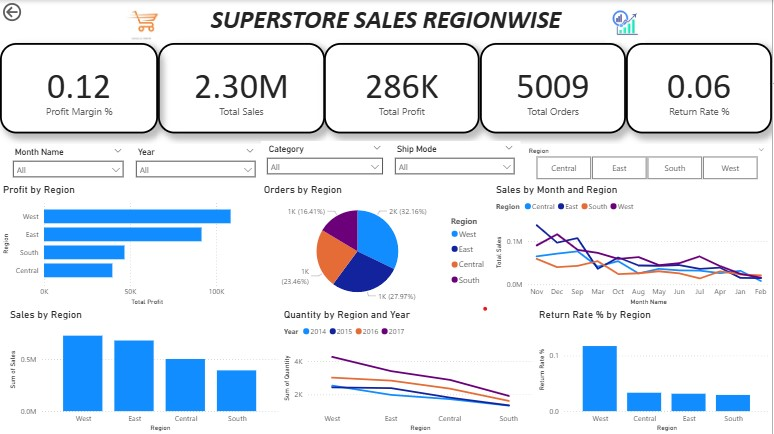

Layout of this report page (visuals, bound fields, positions):
{"tool":"powerbi","page":{"name":"REGIONWISE","canvas":[1280,720],"ordinal":1},"visuals":[{"type":"textbox","box":[0,0,1280,72],"z":0},{"type":"card","fields":{"Values":["Orders.Total Sales"]},"box":[261.7,71.7,276.7,150],"z":1000},{"type":"actionButton","box":[0,0,100,40],"z":2000},{"type":"card","fields":{"Values":["Orders.Total Profit"]},"box":[538,72,258,150],"z":3000},{"type":"card","fields":{"Values":["Orders.Profit Margin %"]},"box":[0,72,262,150],"z":4000},{"type":"card","fields":{"Values":["Orders.Total Orders"]},"box":[796,72,242,150],"z":5000},{"type":"card","fields":{"Values":["Returns.Return Rate %"]},"box":[1038,72,242,150],"z":6000},{"type":"columnChart","title":"Sales by Region","fields":{"Y":["Sum(Orders.Sales)"],"Category":["People.Region"]},"box":[11.7,510,455,210],"z":7000},{"type":"lineChart","title":" Quantity by Region and Year","fields":{"Category":["People.Region"],"Series":["Date.Year"],"Y":["Sum(Orders.Quantity)"]},"box":[466.7,510,421.7,210],"z":8000},{"type":"columnChart","fields":{"Category":["People.Region"],"Y":["Returns.Return Rate %"]},"box":[888.3,510,391.7,210],"z":9000},{"type":"barChart","title":"Profit by Region","fields":{"Y":["Orders.Total Profit"],"Category":["People.Region"]},"box":[0,303.4,434.4,207.3],"z":10000},{"type":"pieChart","title":"Orders by Region","fields":{"Y":["Orders.Total Orders"],"Category":["People.Region"]},"box":[432.7,303.4,384.7,207.3],"z":11000},{"type":"slicer","fields":{"Values":["Date.Year"]},"box":[215,238.3,218.3,61.7],"z":12000},{"type":"slicer","fields":{"Values":["Orders.Category"]},"box":[433.3,233.3,211.7,65],"z":13000},{"type":"slicer","fields":{"Values":["People.Region"]},"box":[863.8,238.8,416.2,64.7],"z":14000},{"type":"slicer","fields":{"Values":["Date.Month Name"]},"box":[11.7,238.3,203.3,60],"z":15000},{"type":"slicer","fields":{"Values":["Orders.Ship Mode"]},"box":[645,233.3,218.3,61.7],"z":16000},{"type":"lineChart","title":"Sales by Month and Region","fields":{"Category":["Date.Month Name"],"Y":["Orders.Total Sales"],"Series":["Orders.Region"]},"box":[817.4,303.4,462.6,207.3],"z":16002},{"type":"image","box":[184,1.7,107.8,71.3],"z":16003},{"type":"image","box":[988.2,0,97.8,74.6],"z":16005}]}

Visuals, with their boxes in screenshot pixels (x1, y1, x2, y2), scaled from the page's 1280x720 canvas onto the 774x434 screenshot:
textbox: (left=0, top=0, right=773, bottom=43)
card - Orders.Total Sales: (left=158, top=43, right=326, bottom=134)
actionButton: (left=0, top=0, right=60, bottom=24)
card - Orders.Total Profit: (left=325, top=43, right=481, bottom=134)
card - Orders.Profit Margin %: (left=0, top=43, right=158, bottom=134)
card - Orders.Total Orders: (left=481, top=43, right=628, bottom=134)
card - Returns.Return Rate %: (left=628, top=43, right=773, bottom=134)
"Sales by Region" columnChart: (left=7, top=307, right=282, bottom=433)
" Quantity by Region and Year" lineChart: (left=282, top=307, right=537, bottom=433)
columnChart - People.Region x Returns.Return Rate %: (left=537, top=307, right=773, bottom=433)
"Profit by Region" barChart: (left=0, top=183, right=263, bottom=308)
"Orders by Region" pieChart: (left=262, top=183, right=494, bottom=308)
slicer - Date.Year: (left=130, top=144, right=262, bottom=181)
slicer - Orders.Category: (left=262, top=141, right=390, bottom=180)
slicer - People.Region: (left=522, top=144, right=773, bottom=183)
slicer - Date.Month Name: (left=7, top=144, right=130, bottom=180)
slicer - Orders.Ship Mode: (left=390, top=141, right=522, bottom=178)
"Sales by Month and Region" lineChart: (left=494, top=183, right=773, bottom=308)
image: (left=111, top=1, right=176, bottom=44)
image: (left=598, top=0, right=657, bottom=45)
